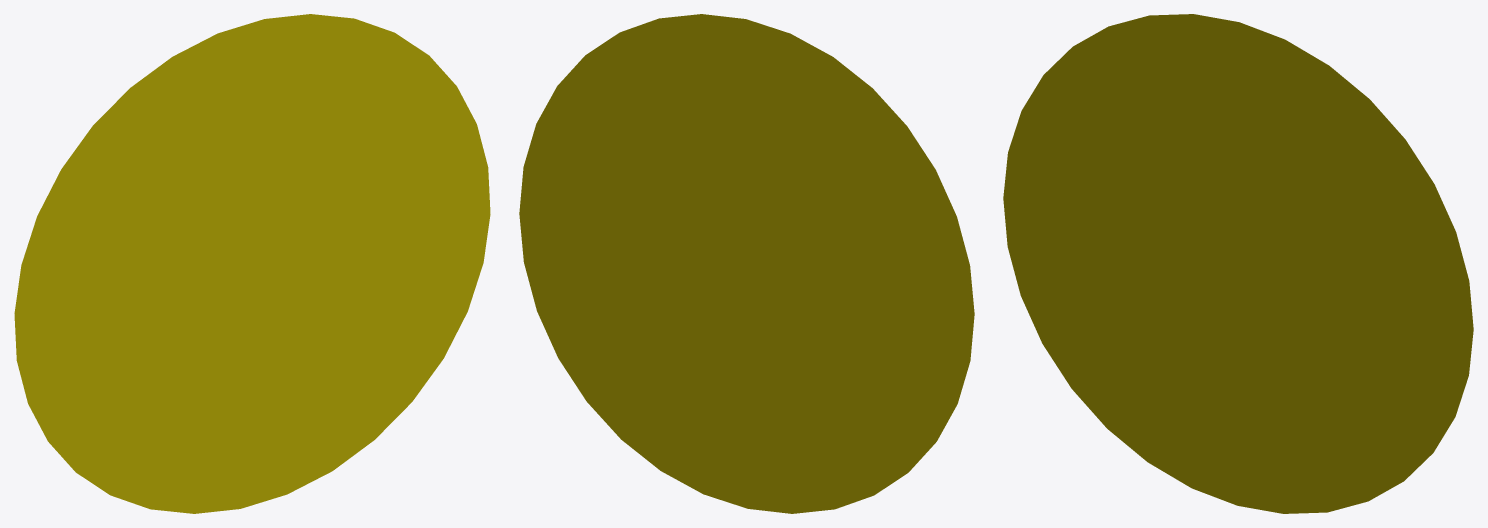
The model's file is ButtonsGlass_MouseYellow_0.dae.
3 views of the same model, side by side, from view 1: azimuth 30°, elevation 25°; view 2: azimuth 150°, elevation 25°; view 3: azimuth 330°, elevation 25° (orthographic). The views are drawn at different scales.
Parts seen in each view (by area): view 1: ButtonsGlass_MouseYellow_0; view 2: ButtonsGlass_MouseYellow_0; view 3: ButtonsGlass_MouseYellow_0.
Part boxes in pixels (box(x1,y1,x2,y2)): ButtonsGlass_MouseYellow_0: box(14, 14, 490, 513); ButtonsGlass_MouseYellow_0: box(519, 14, 974, 513); ButtonsGlass_MouseYellow_0: box(1003, 14, 1473, 513).
Size of the model in its own units: 0.00743 by 0.00742 by 0.000308.
